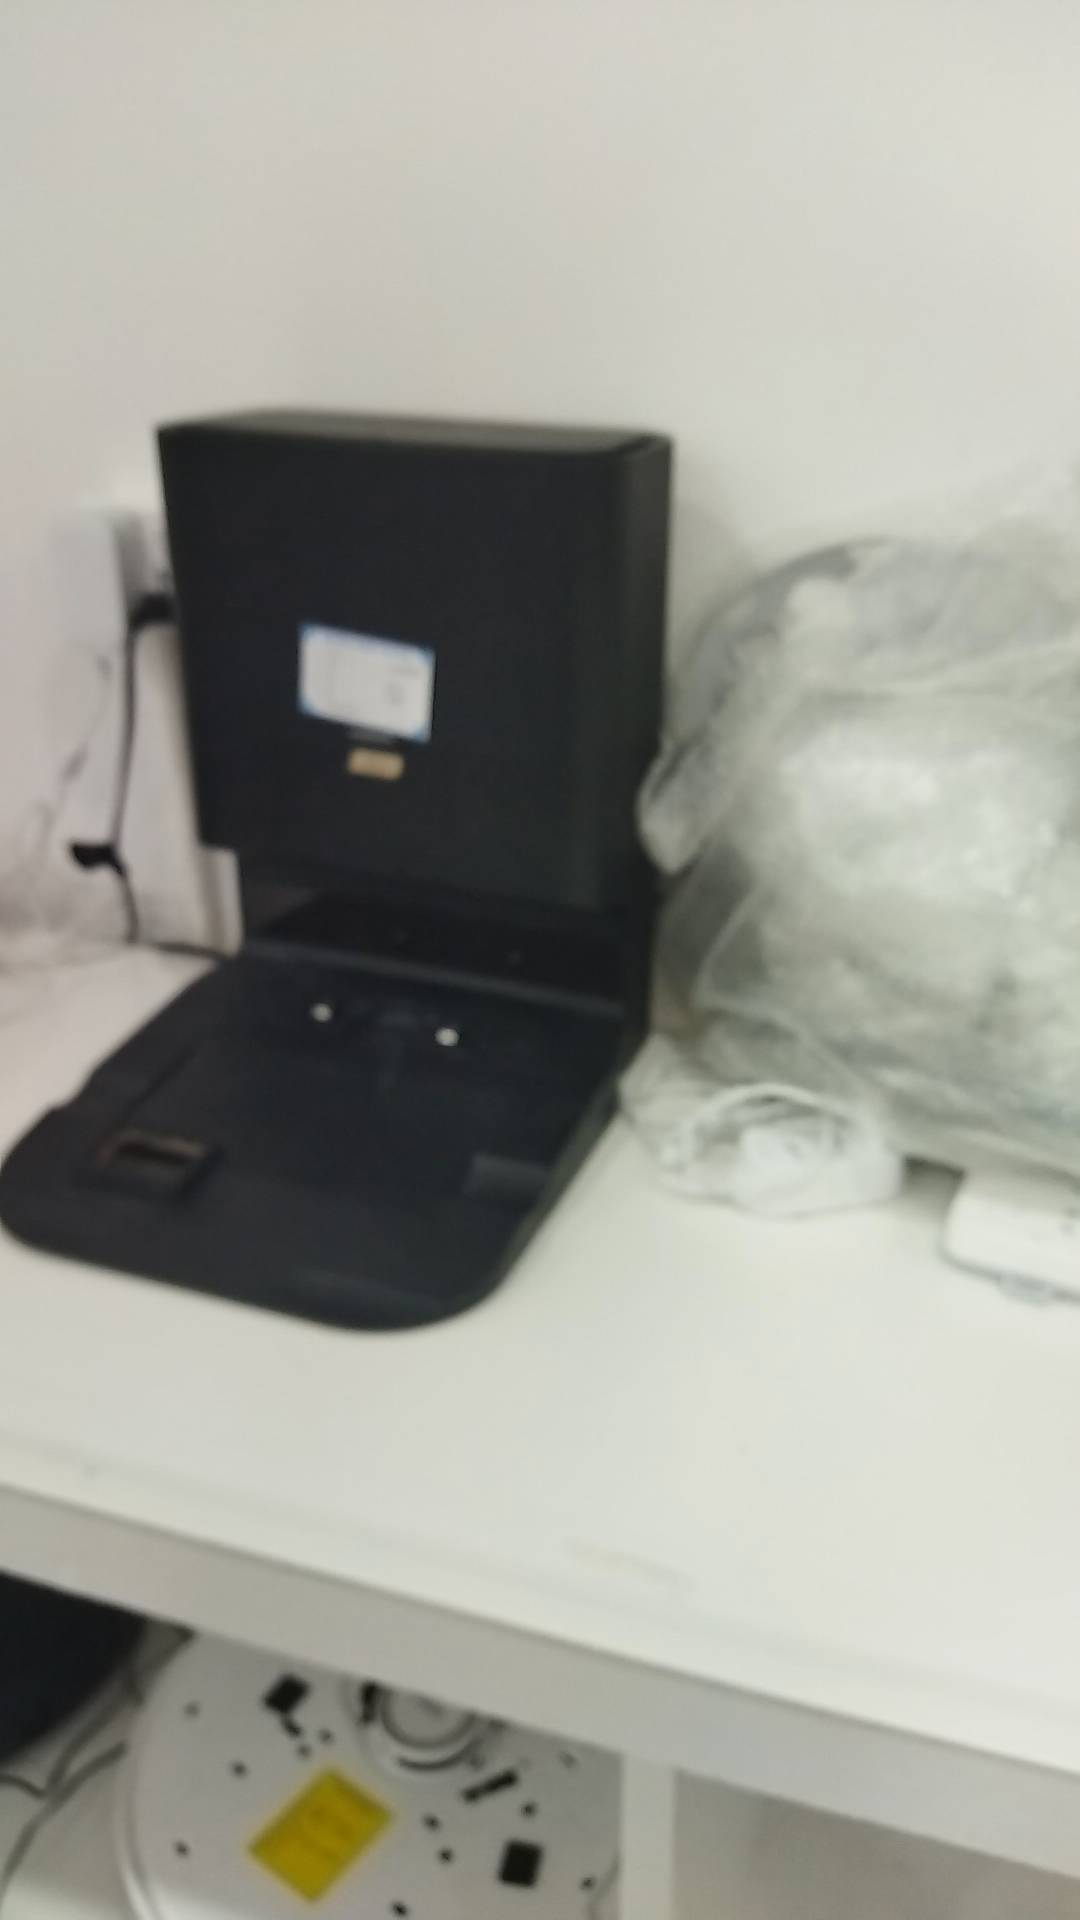dust collecting barrel: (1, 405, 676, 1337)
